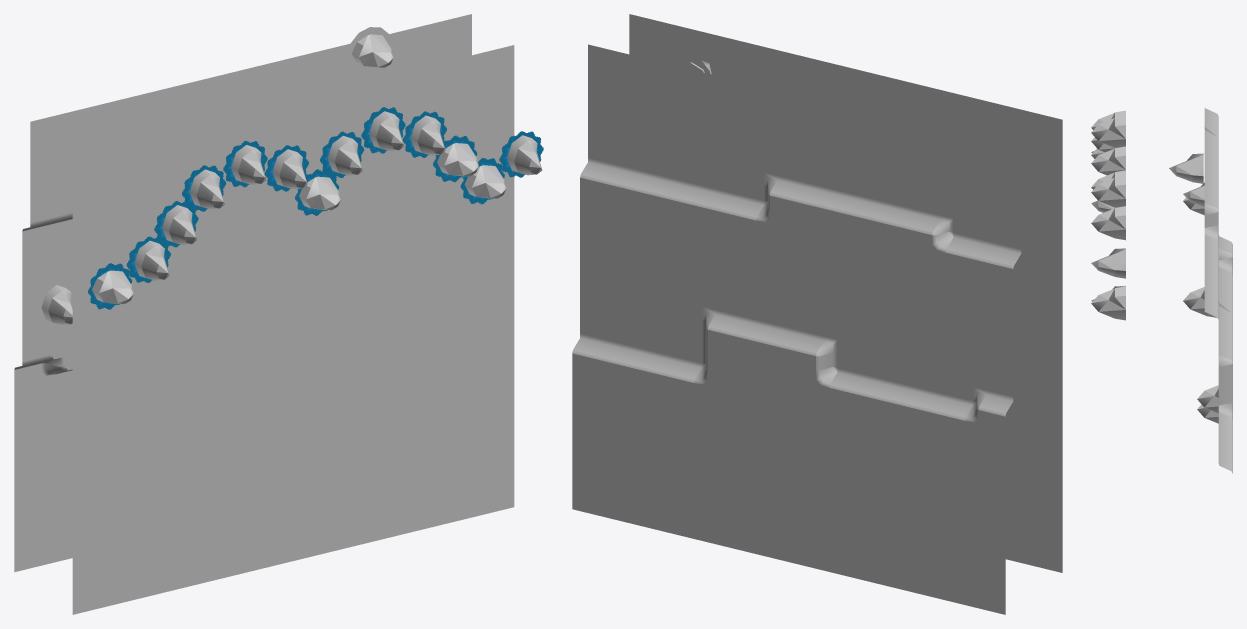
Rendered from Asteria_17_27.obj.
3 renders of one model, left to right at view 1: azimuth 30°, elevation 25°; view 2: azimuth 150°, elevation 25°; view 3: azimuth 270°, elevation 25°, orthographic. The views are drawn at different scales.
Visible parts, largest first — view 1: map; view 2: map; view 3: map.
Boxes of the visible parts, left/top/right/bottom form: map: left=14, top=14, right=543, bottom=614; map: left=572, top=14, right=1062, bottom=614; map: left=1091, top=108, right=1232, bottom=473.
Bounding box in the file's own units: 33.92 × 32.92 × 10.04.
